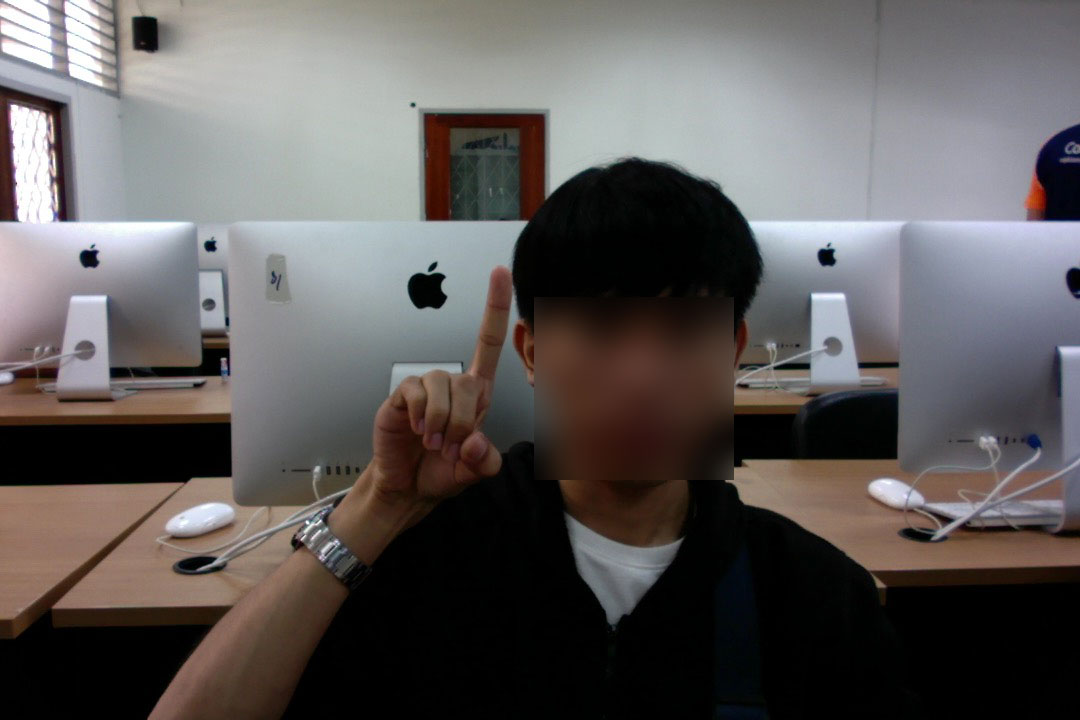dor: (334, 247, 524, 499)
